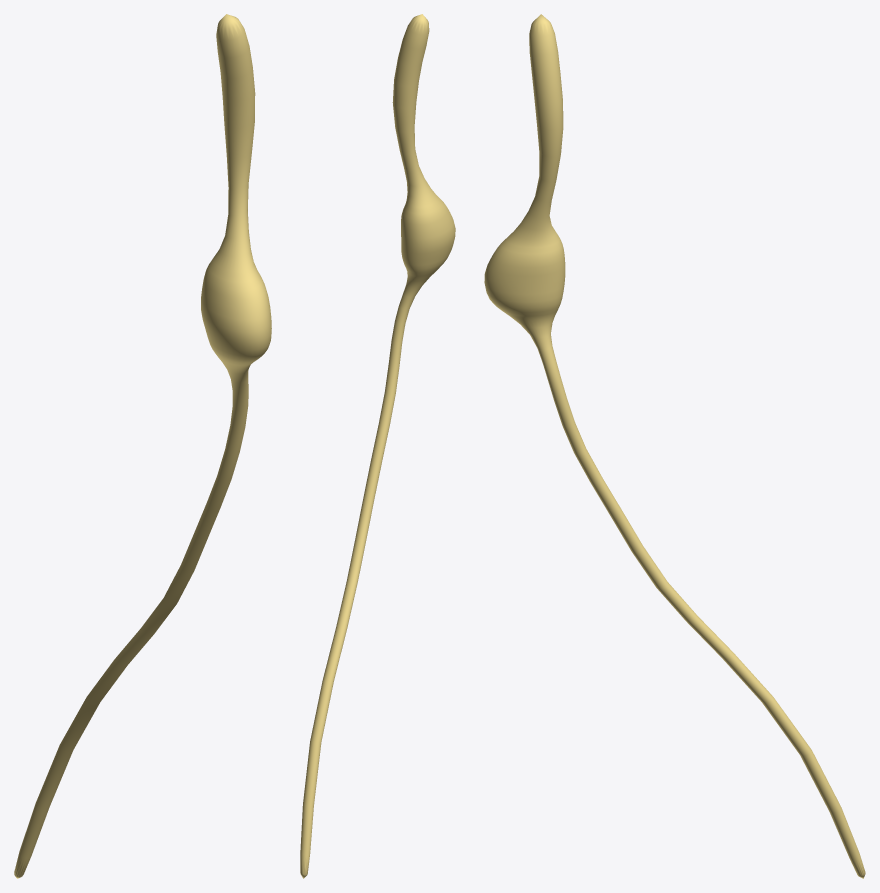
3 views of the same model, side by side, from view 1: azimuth 30°, elevation 25°; view 2: azimuth 150°, elevation 25°; view 3: azimuth 270°, elevation 25° (orthographic). The views are drawn at different scales.
Parts seen in each view (by area): view 1: ZA_80d4e7e5eb30d5e9; view 2: ZA_80d4e7e5eb30d5e9; view 3: ZA_80d4e7e5eb30d5e9.
Boxes of the visible parts, x1=… form: ZA_80d4e7e5eb30d5e9: x1=14, y1=14, x2=271, y2=878; ZA_80d4e7e5eb30d5e9: x1=300, y1=14, x2=455, y2=878; ZA_80d4e7e5eb30d5e9: x1=484, y1=14, x2=865, y2=878.
Bounding box in the file's own units: 0.00439 × 0.0668 × 0.0263.
